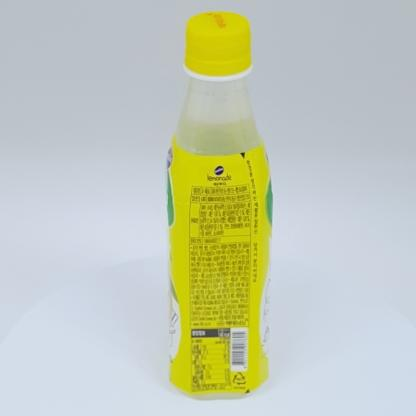-------350ML: (165, 10, 273, 400)
